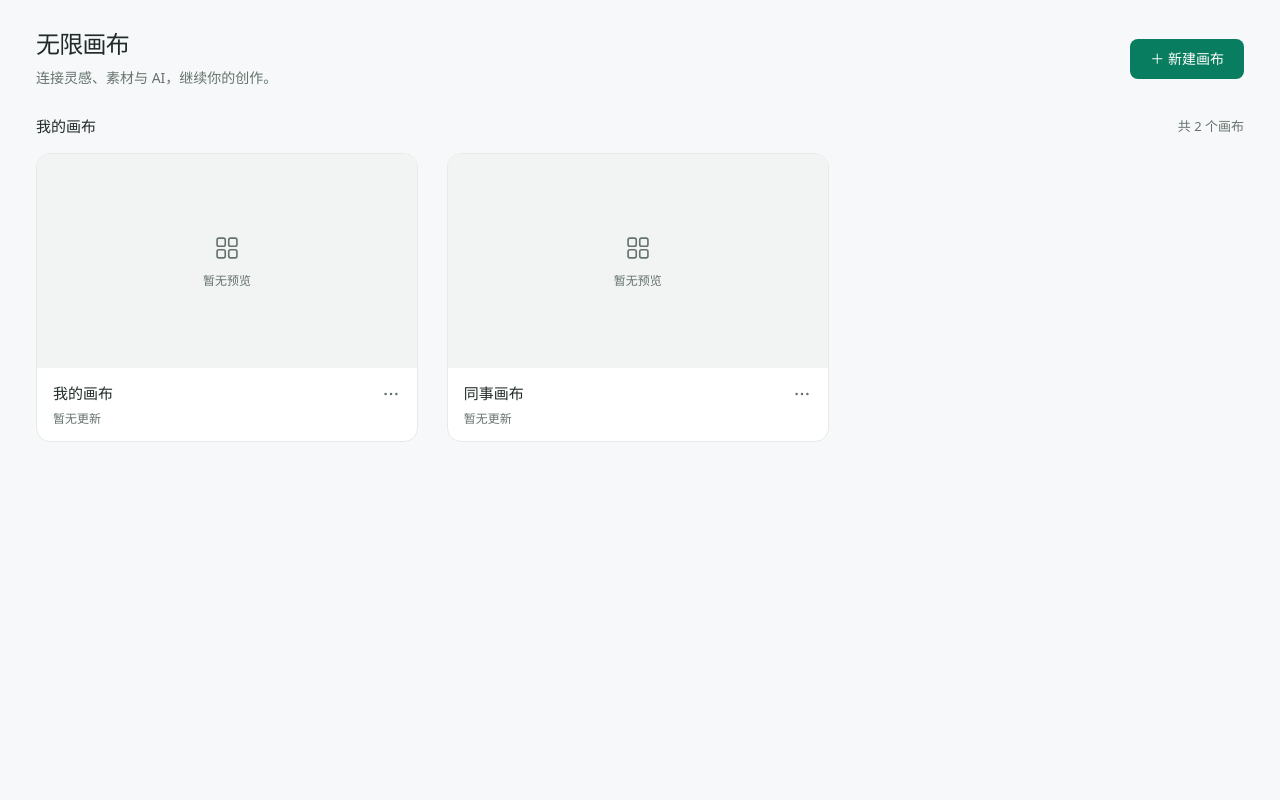
Test: CanvasListView 重命名权限 › 菜单里不再有「编辑画布」
Click the 1st button named "更多操作": click(391, 394) [375, 378, 407, 410]
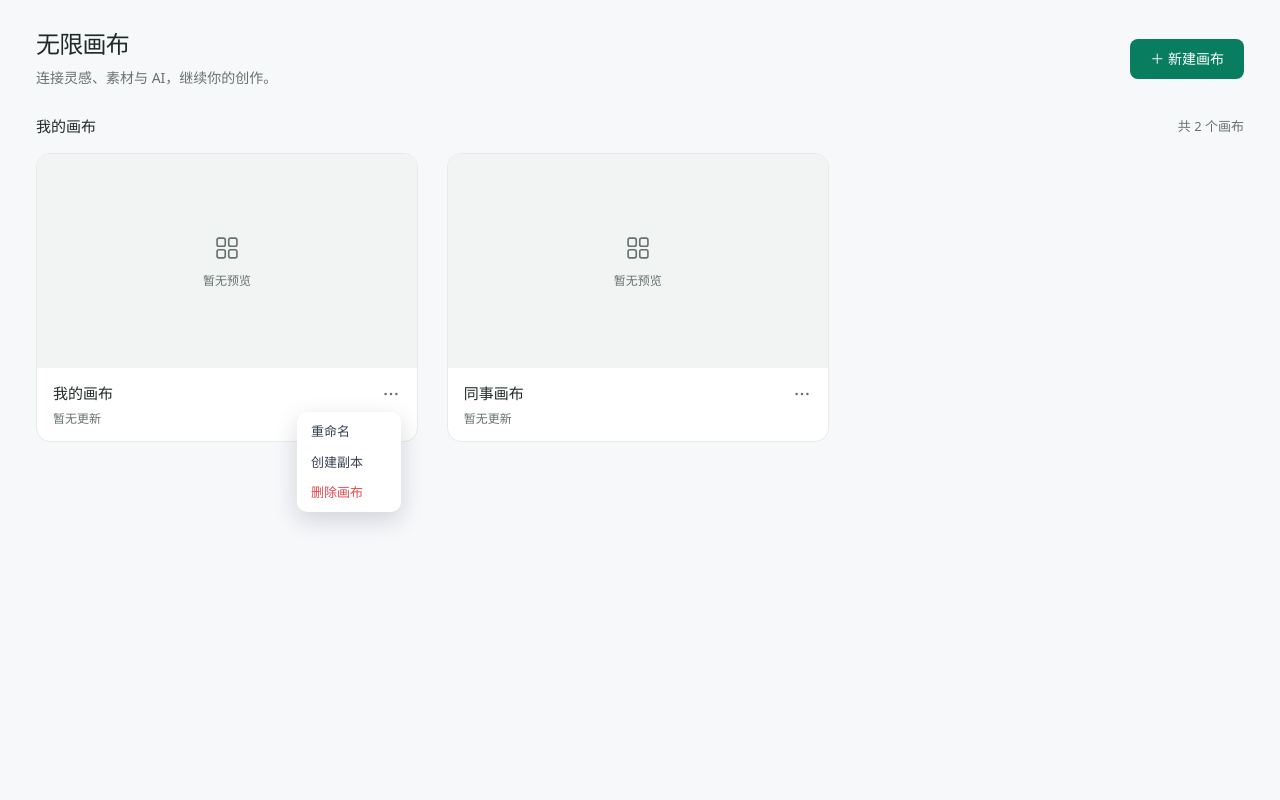
Result: the button "重命名" is shown at [301, 416, 397, 446]
Result: the button "创建副本" is shown at [301, 446, 397, 477]
